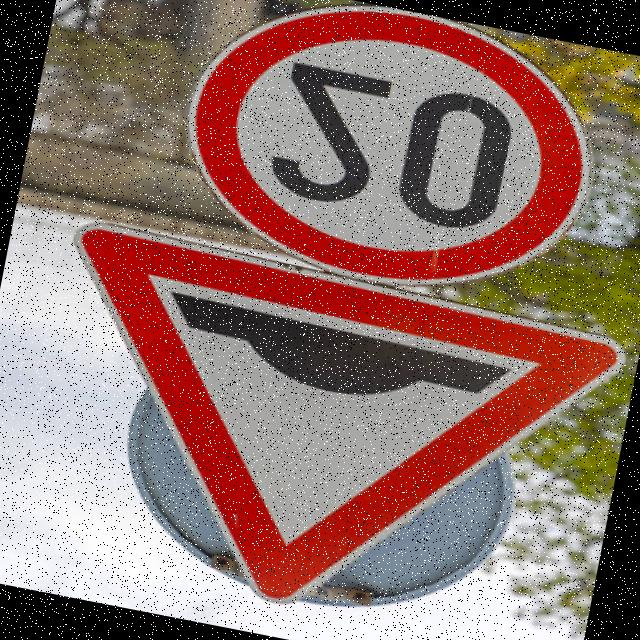speed_limit_20: (146, 0, 633, 323)
